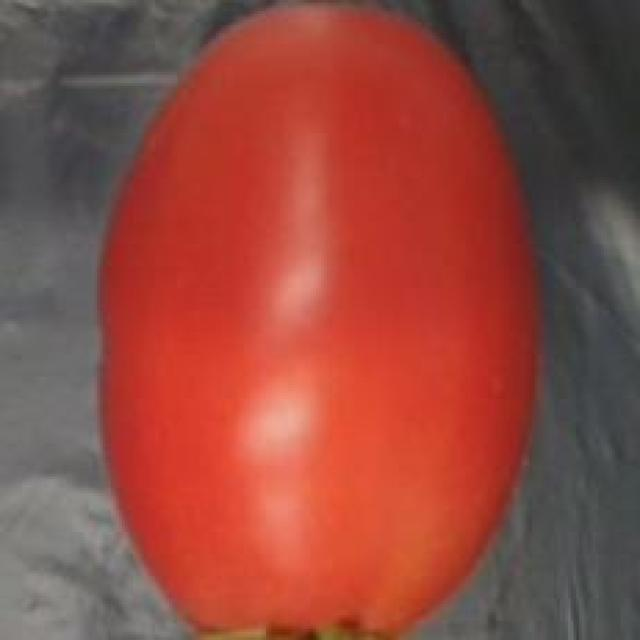overripe tomato: (94, 5, 551, 640)
